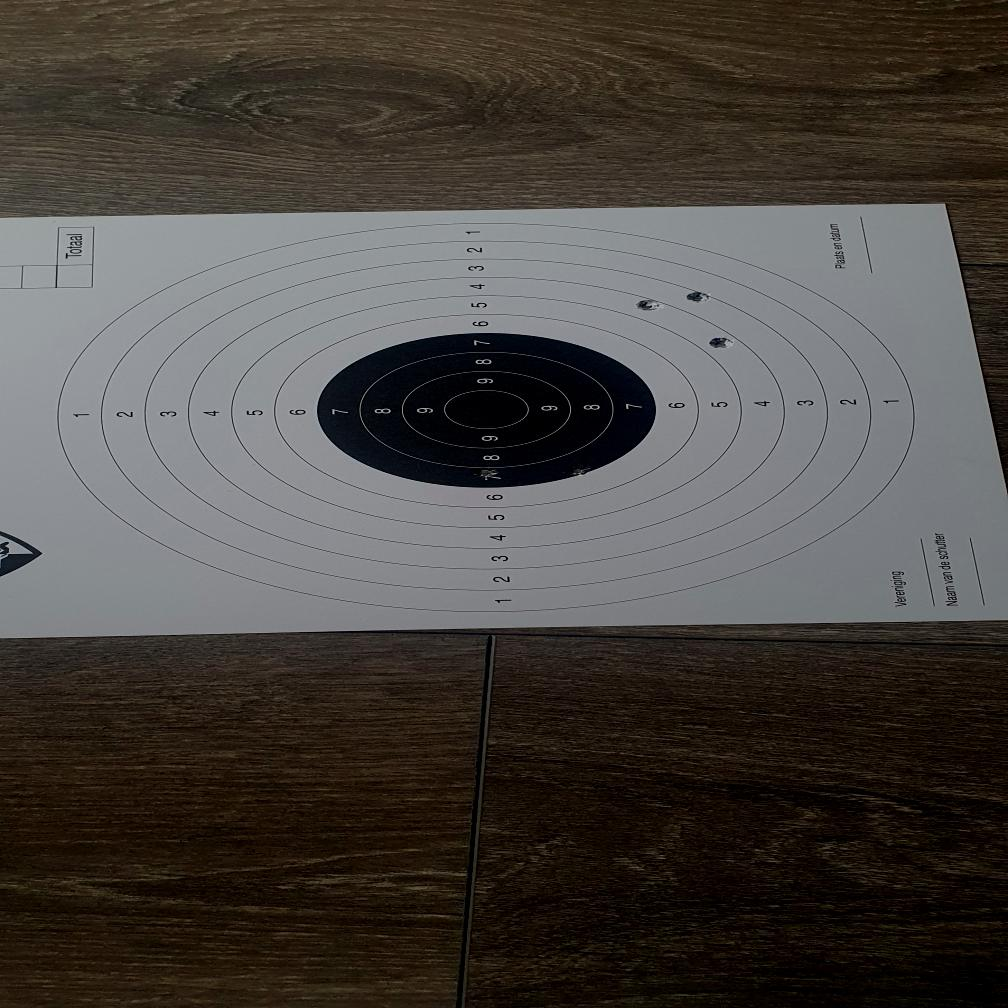3: (682, 291, 714, 303)
4: (705, 337, 737, 351), (633, 299, 664, 312)
7: (555, 462, 596, 480), (468, 466, 504, 480)
Target: (55, 222, 919, 614)
black_contour: (317, 332, 657, 488)
